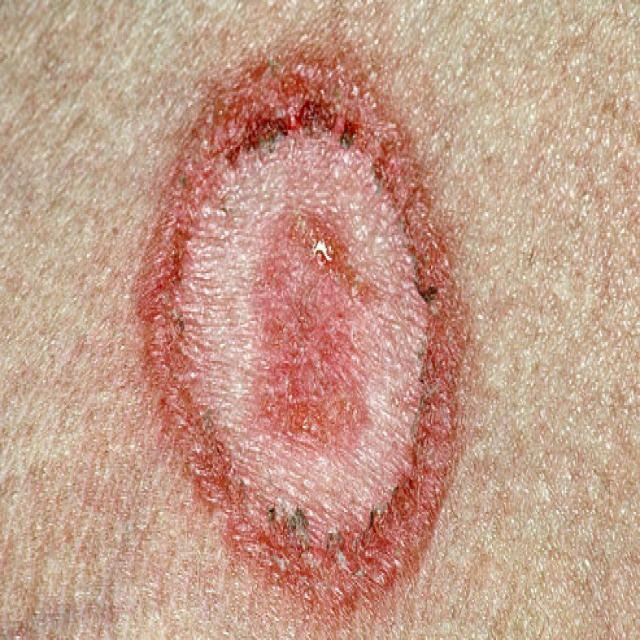Ringworm: (105, 20, 517, 625)
